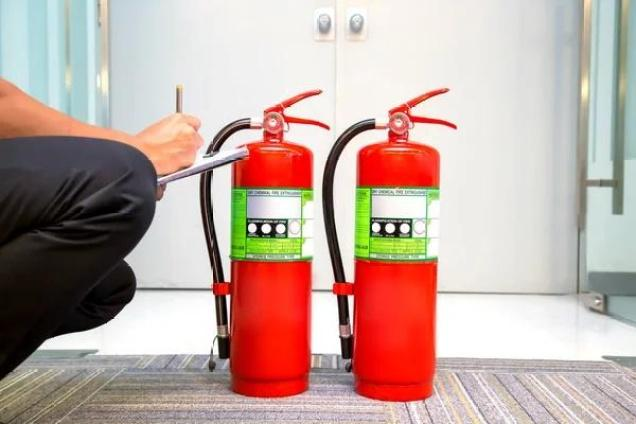APAR: (350, 85, 457, 402), (226, 87, 330, 398)
